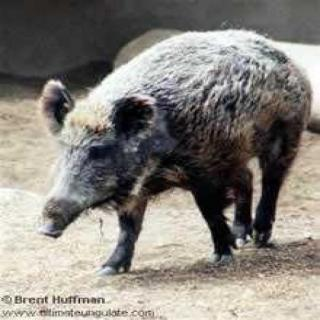Pig: (15, 32, 320, 302)
